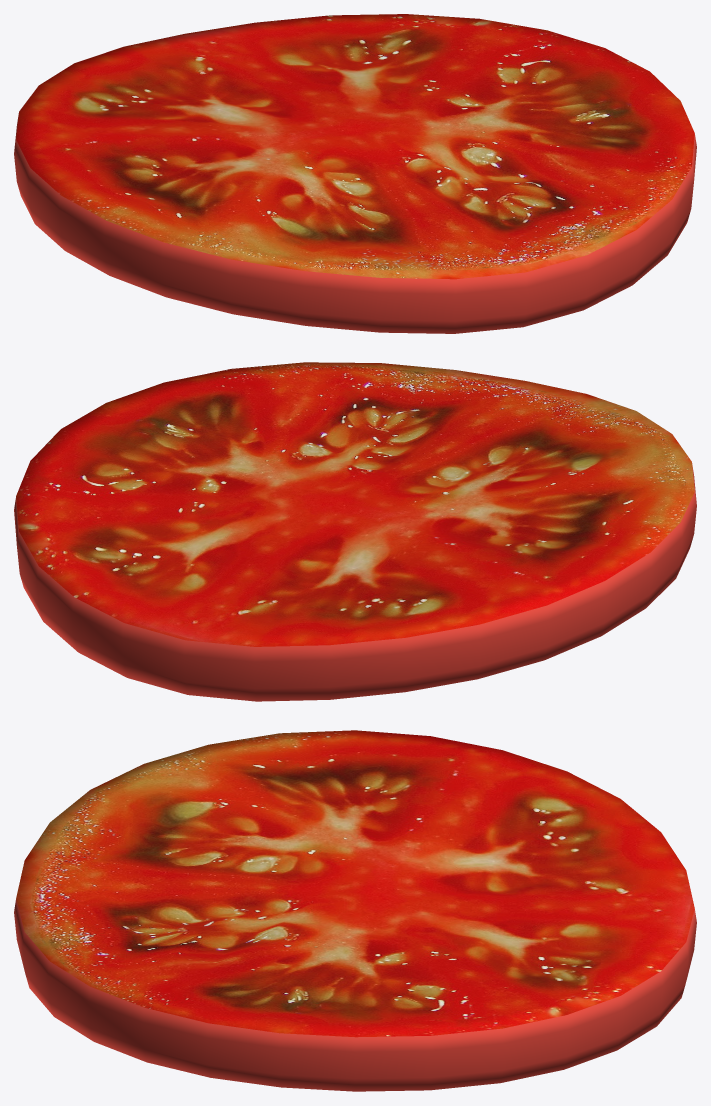
The model's file is Tomato.fbx.
The picture shows the model from 3 angles, top to bottom: view 1: azimuth 30°, elevation 25°; view 2: azimuth 150°, elevation 25°; view 3: azimuth 270°, elevation 25°; orthographic projection.
Visible parts, largest first — view 1: tomato; view 2: tomato; view 3: tomato.
Part boxes in pixels (left/top/right/bottom): tomato: left=14, top=14, right=696, bottom=333; tomato: left=14, top=362, right=696, bottom=701; tomato: left=14, top=730, right=696, bottom=1091.
Bounding box in the file's own units: 1.88 × 0.2878 × 1.88.
